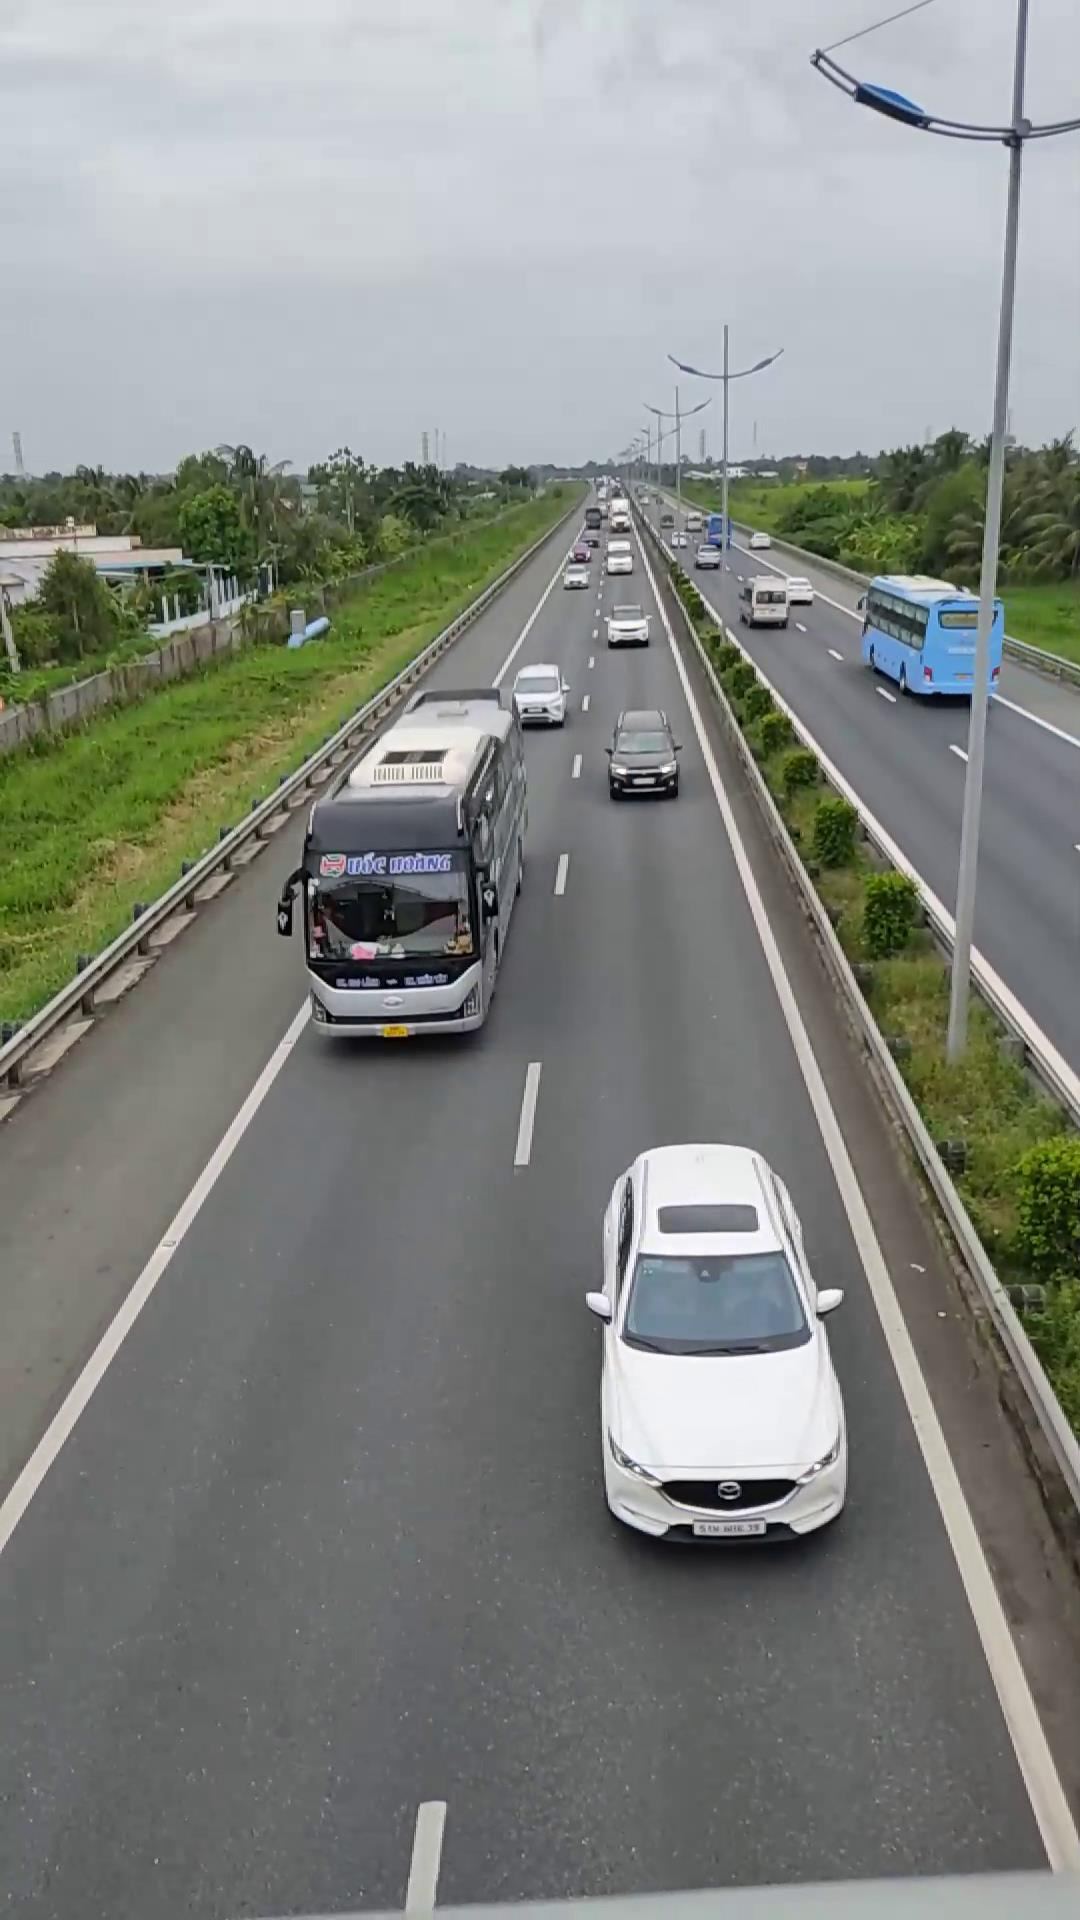bus: (295, 687, 530, 1039)
car: (584, 1139, 853, 1547), (603, 709, 682, 798), (504, 662, 575, 727)
